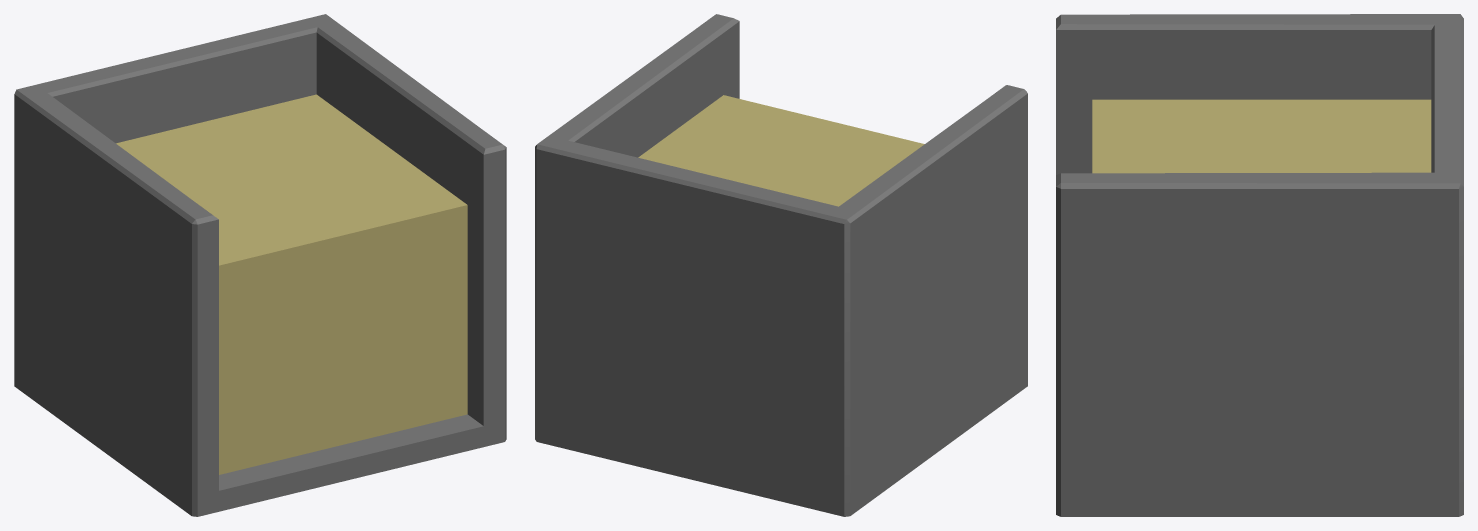
File: DeskLitter_Block.fbx
3 renders of one model, left to right at view 1: azimuth 30°, elevation 25°; view 2: azimuth 150°, elevation 25°; view 3: azimuth 270°, elevation 25°, orthographic. The views are drawn at different scales.
Visible parts, largest first — view 1: DeskLitter_Block; view 2: DeskLitter_Block; view 3: DeskLitter_Block.
Boxes of the visible parts, <box> form: DeskLitter_Block: <box>14,14,506,516</box>; DeskLitter_Block: <box>535,14,1027,516</box>; DeskLitter_Block: <box>1056,14,1463,516</box>.
Bounding box in the file's own units: 10.2 × 9.17 × 10.2.
